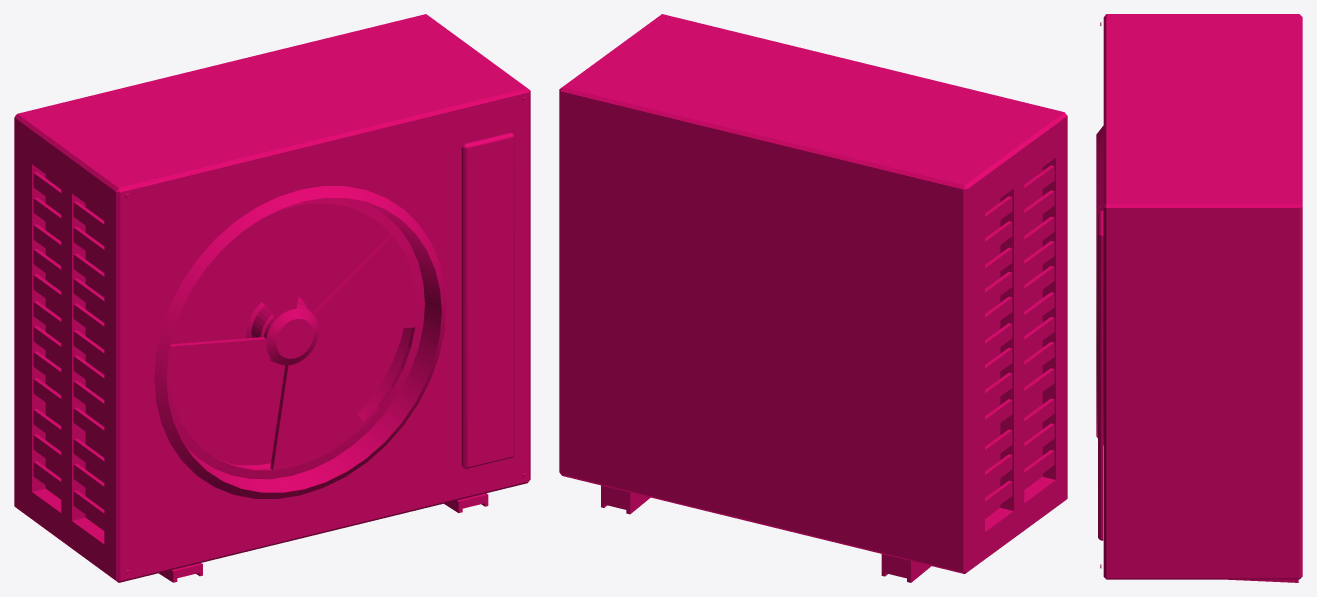
File: Fan_01_Lod0.fbx
The picture shows the model from 3 angles, left to right: view 1: azimuth 30°, elevation 25°; view 2: azimuth 150°, elevation 25°; view 3: azimuth 270°, elevation 25°; orthographic projection. The views are drawn at different scales.
Visible parts, largest first — view 1: Fan_01_Lod0; view 2: Fan_01_Lod0; view 3: Fan_01_Lod0.
Part boxes in pixels (left/top/right/bottom): Fan_01_Lod0: left=14, top=14, right=530, bottom=582; Fan_01_Lod0: left=559, top=14, right=1067, bottom=582; Fan_01_Lod0: left=1096, top=14, right=1302, bottom=582.
Bounding box in the file's own units: 78.8 × 75.81 × 35.65.
